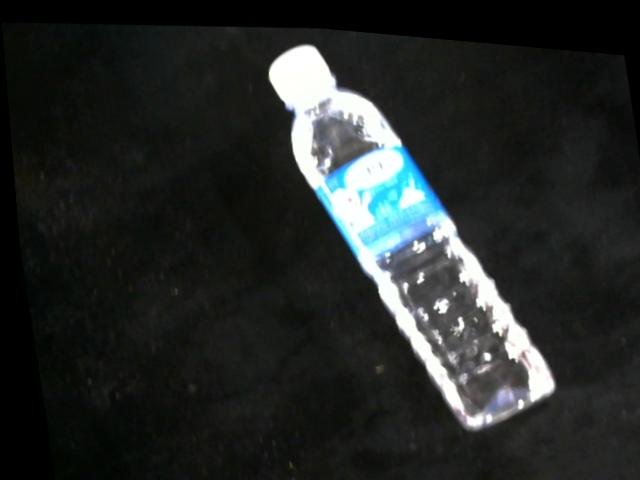bottle: (265, 37, 554, 426)
